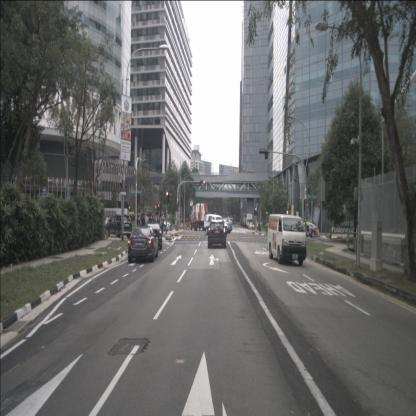human-pedestrian-adult: (148, 213, 153, 234), (142, 213, 146, 234), (136, 214, 140, 235), (139, 213, 143, 231), (159, 214, 162, 238), (161, 214, 164, 236), (256, 221, 259, 232), (153, 215, 155, 227), (157, 215, 159, 227)
vehicle-car: (267, 214, 307, 266), (128, 226, 159, 263), (104, 214, 132, 239), (208, 220, 228, 249), (204, 213, 228, 235), (144, 224, 162, 248), (145, 216, 171, 232), (214, 219, 232, 236), (302, 222, 318, 238), (248, 222, 255, 230)
vehicle-truck: (191, 203, 209, 231), (243, 213, 253, 229)
